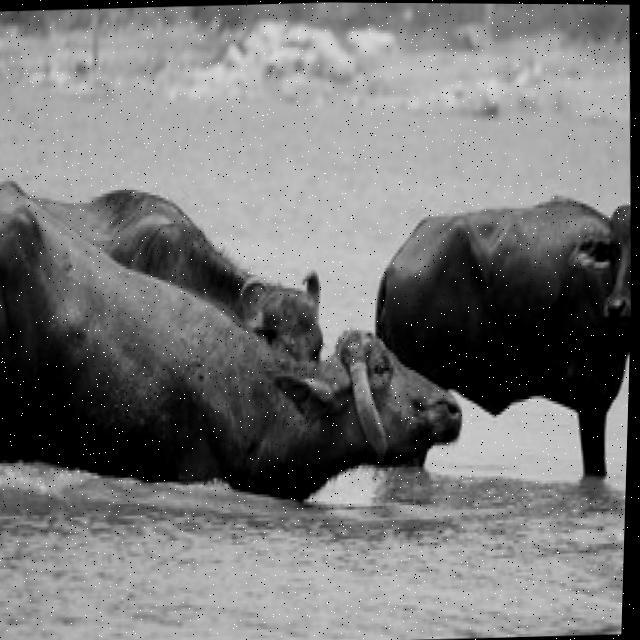Buffalo: (0, 166, 454, 507), (455, 185, 635, 478), (0, 169, 269, 322), (562, 201, 634, 324)
